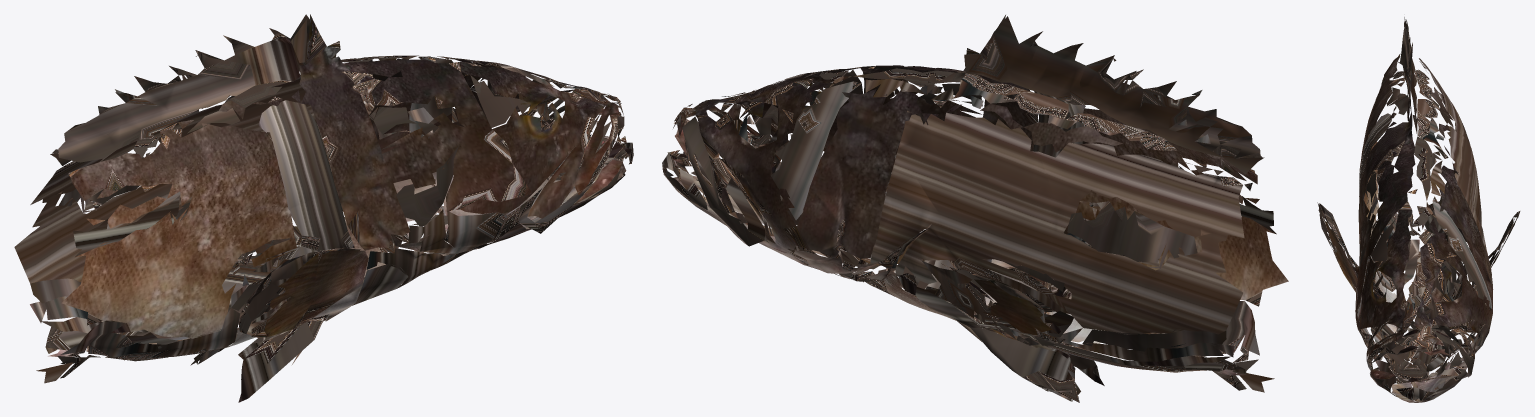
The model's file is sevenband_a.glb.
3 views of the same model, side by side, from view 1: azimuth 30°, elevation 25°; view 2: azimuth 150°, elevation 25°; view 3: azimuth 270°, elevation 25° (orthographic). The views are drawn at different scales.
Visible parts, largest first — view 1: sevenband_a; view 2: sevenband_a; view 3: sevenband_a.
Part boxes in pixels (x1=…): sevenband_a: x1=14, y1=14, x2=633, y2=402; sevenband_a: x1=662, y1=15, x2=1288, y2=402; sevenband_a: x1=1317, y1=17, x2=1520, y2=402.
Bounding box in the file's own units: 0.5736 × 0.3274 × 0.199.
Materials: 1 (1 with a texture image).
